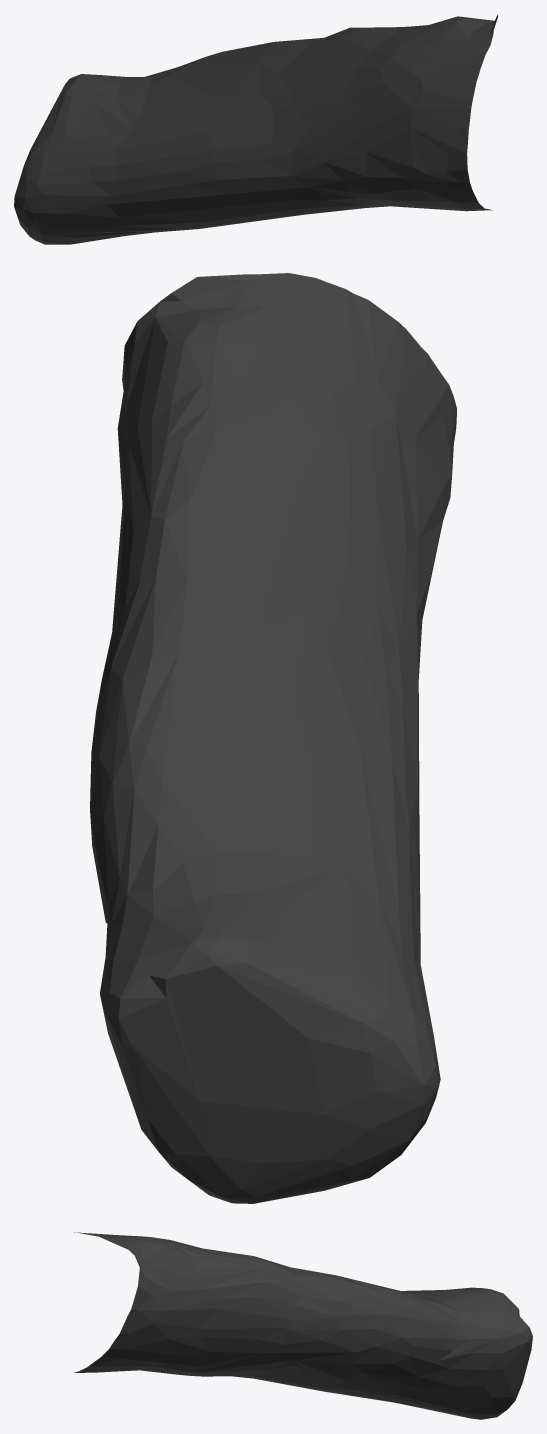
Rendered from Ext_iliac_vv_R.glb.
3 views of the same model, one above another, from view 1: azimuth 30°, elevation 25°; view 2: azimuth 150°, elevation 25°; view 3: azimuth 270°, elevation 25° (orthographic). The views are drawn at different scales.
Visible parts, largest first — view 1: Ext_iliac_vv_R; view 2: Ext_iliac_vv_R; view 3: Ext_iliac_vv_R.
Part boxes in pixels (left/top/right/bottom): Ext_iliac_vv_R: left=14, top=14, right=497, bottom=244; Ext_iliac_vv_R: left=90, top=273, right=456, bottom=1203; Ext_iliac_vv_R: left=74, top=1232, right=532, bottom=1419.
Bounding box in the file's own units: 0.1684 × 0.1442 × 0.2456.
1 material, 1 textured.
